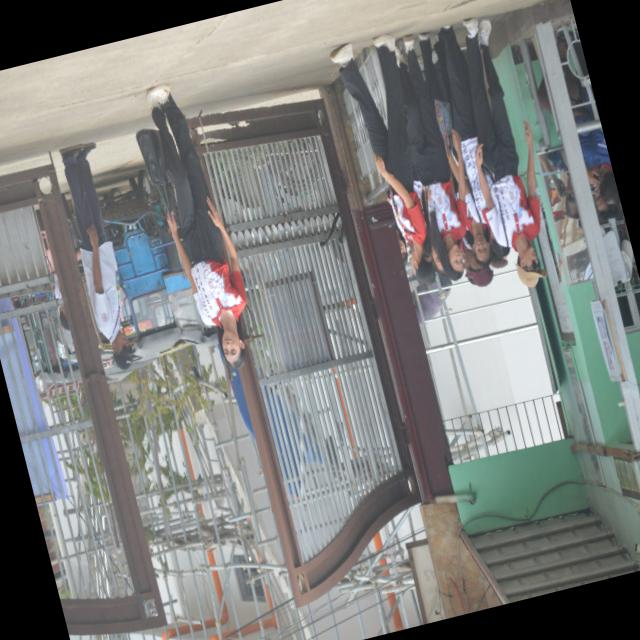person: (146, 84, 246, 367), (331, 33, 435, 283), (463, 17, 546, 286), (395, 34, 466, 279), (60, 142, 133, 370), (439, 25, 487, 224), (579, 128, 619, 204), (459, 238, 493, 286)
